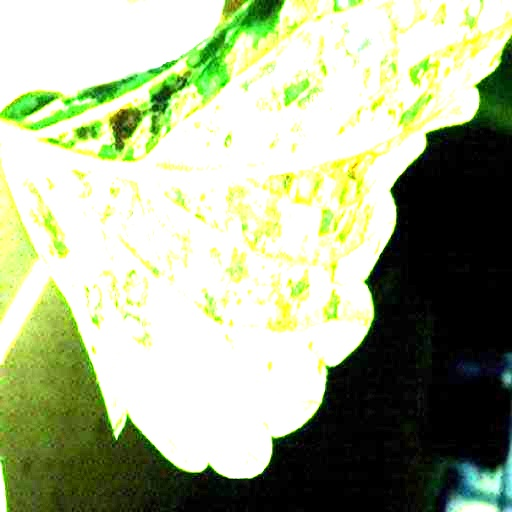Angular Leafspot: (0, 0, 511, 476)
